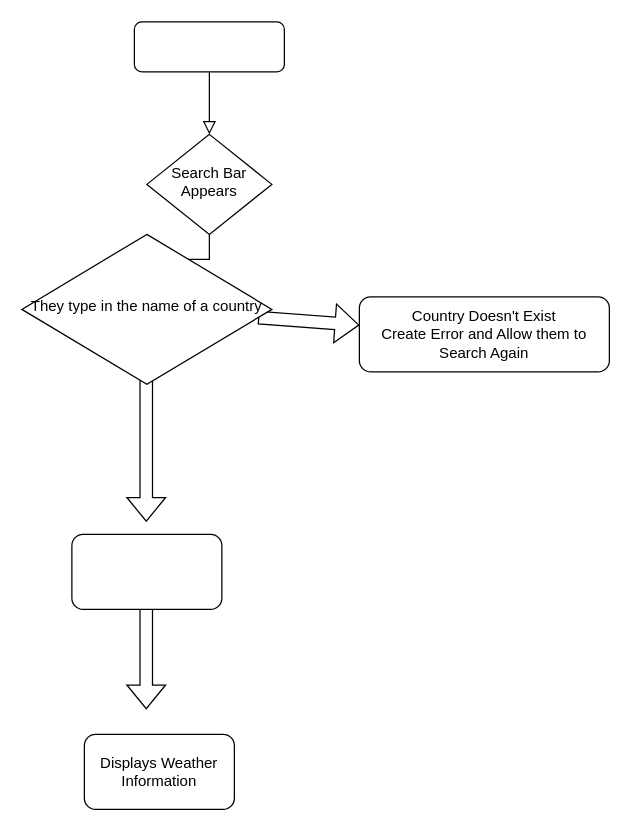
Image size: 631x831. Some labels were removed from this diagram. The centre of each missing label's shape, as x and y in pixels:
Country Exists: (x=146, y=571)
User Loads Page: (x=208, y=46)
